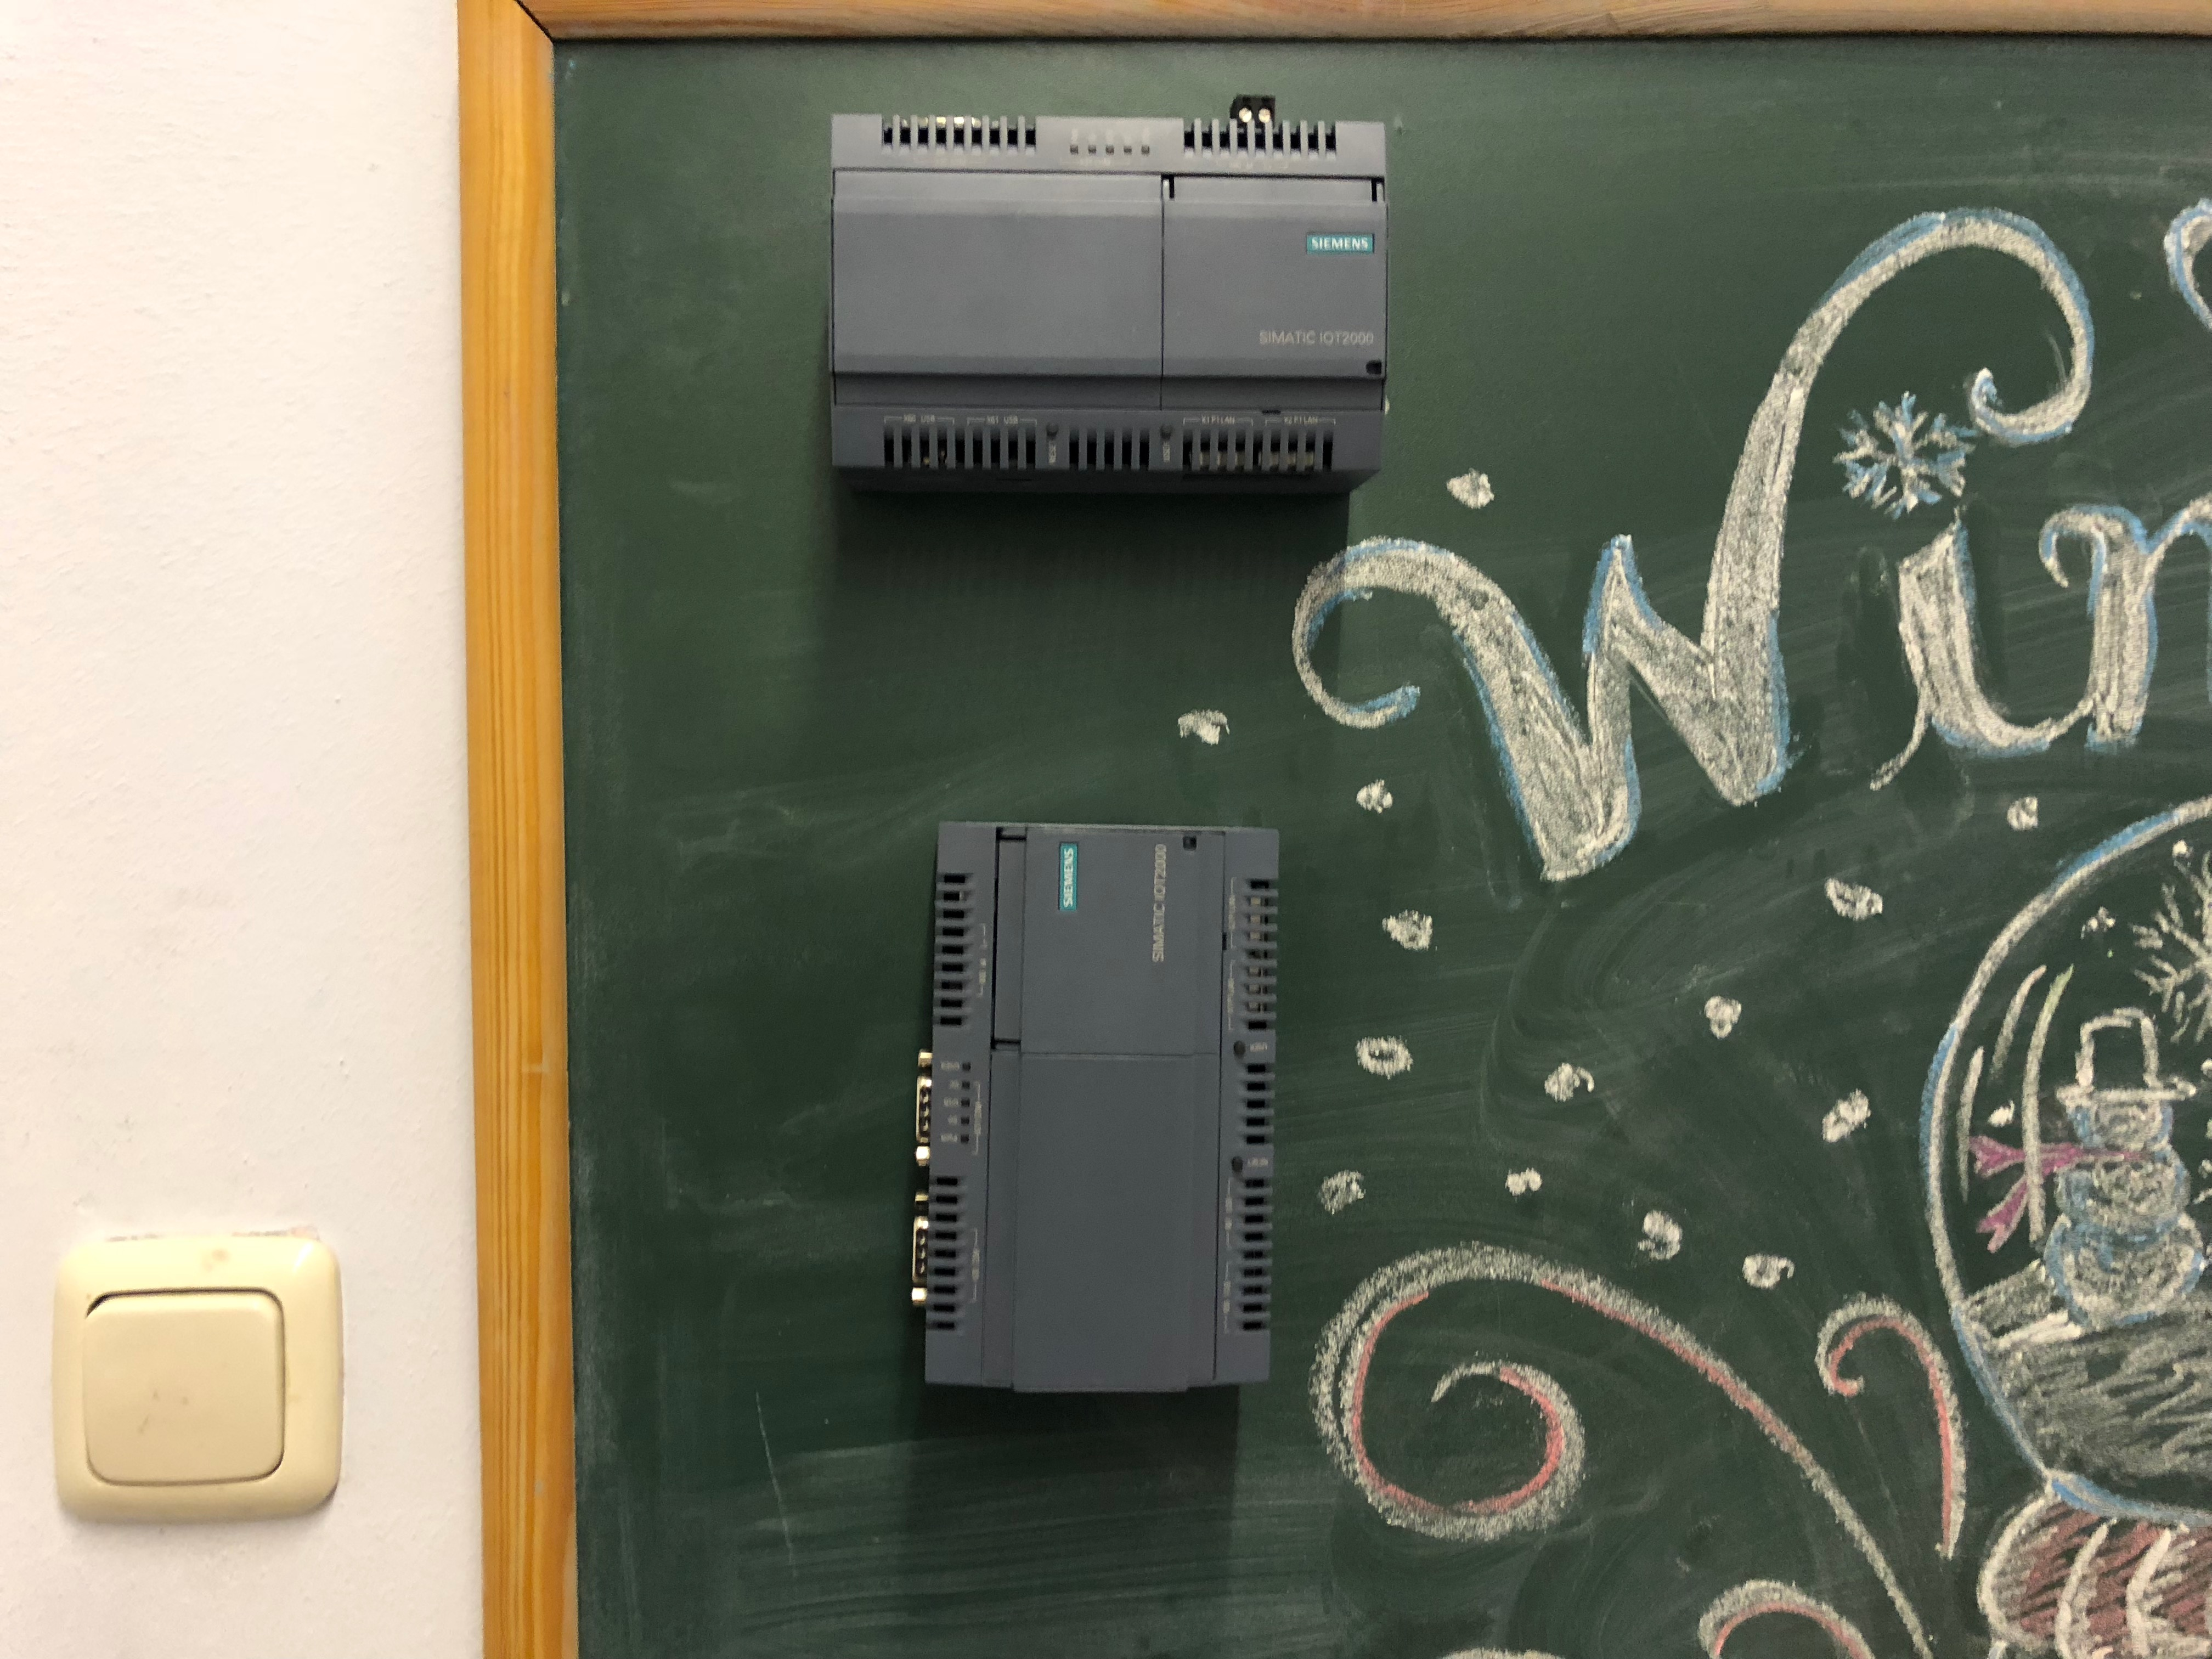device: (831, 96, 1390, 493), (911, 823, 1280, 1392)
